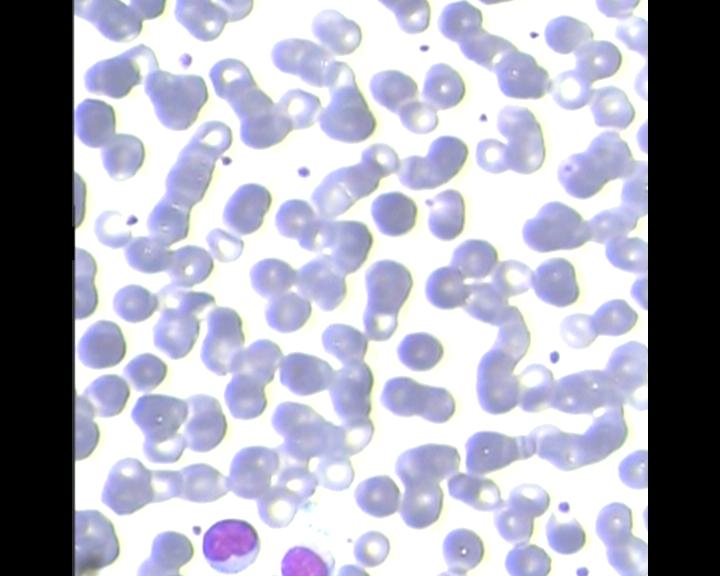lymp: (197, 517, 264, 576), (273, 540, 339, 576)
